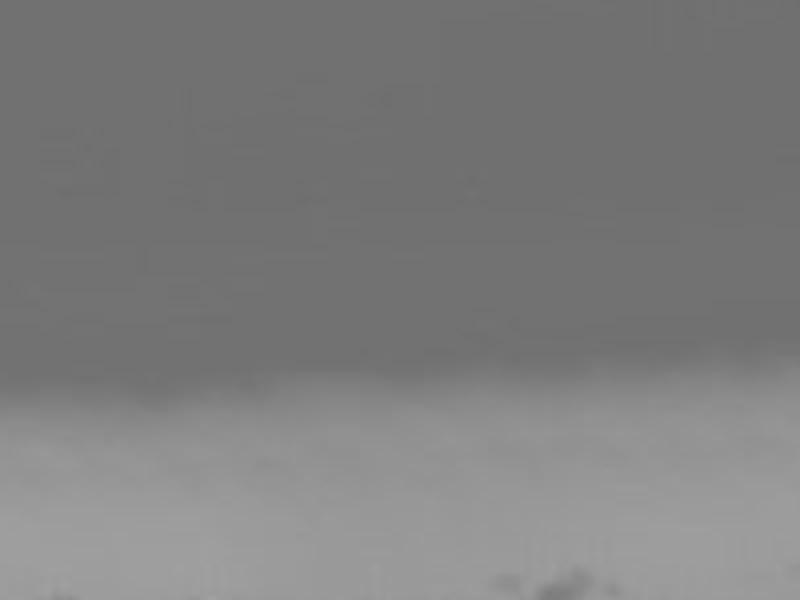defect: (538, 579, 590, 600), (494, 571, 525, 592), (569, 561, 594, 578), (605, 579, 627, 598)
